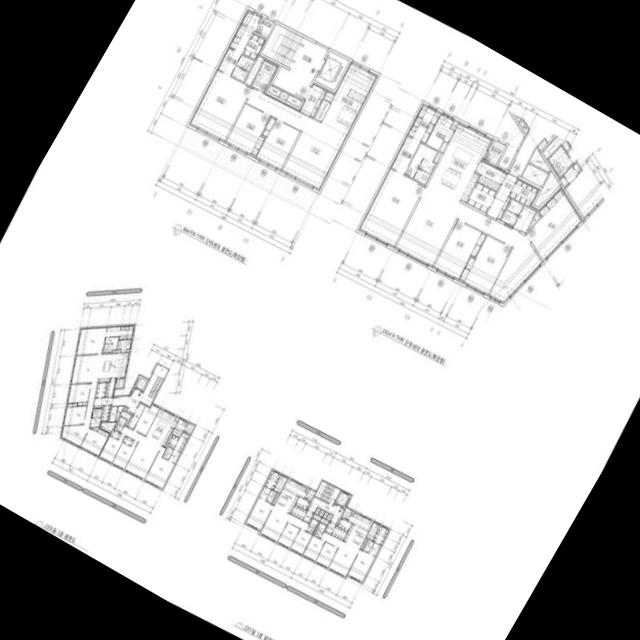background: (0, 0, 640, 640)
space_balconi: (184, 423, 195, 435), (115, 379, 125, 388)
space_bedroom: (358, 169, 425, 248), (189, 70, 251, 142), (526, 187, 582, 262), (433, 221, 487, 281), (458, 236, 512, 296), (256, 117, 300, 171), (226, 104, 270, 158), (145, 446, 175, 489), (347, 550, 375, 583), (245, 498, 273, 531), (80, 428, 110, 457), (76, 327, 107, 355), (134, 404, 160, 435), (99, 434, 125, 463), (112, 441, 138, 470), (277, 523, 300, 549), (290, 529, 312, 555), (316, 542, 338, 568), (303, 536, 325, 562), (63, 403, 87, 426), (67, 384, 91, 406), (110, 430, 121, 440), (123, 437, 133, 446)
space_dressroom: (228, 10, 262, 54), (407, 104, 441, 144), (390, 136, 420, 174), (243, 33, 267, 60), (264, 470, 281, 490), (373, 525, 389, 545), (174, 433, 189, 452), (119, 325, 134, 340), (168, 436, 179, 449)
space_elevator: (316, 52, 349, 90), (335, 491, 351, 509), (133, 376, 148, 392)
space_elevator_hall: (272, 39, 329, 100), (112, 364, 168, 414), (308, 497, 344, 524)
space_front: (487, 173, 517, 220), (299, 83, 327, 118), (509, 179, 540, 207), (127, 403, 145, 430), (331, 526, 347, 541), (291, 505, 307, 520), (94, 398, 112, 408), (96, 383, 107, 398), (101, 406, 111, 422), (303, 511, 314, 523), (325, 522, 336, 534)
space_kitchen: (427, 123, 493, 203), (321, 62, 378, 137), (146, 408, 177, 447), (274, 478, 307, 514), (344, 512, 373, 550), (98, 353, 129, 383), (295, 497, 310, 510), (338, 519, 351, 531)
space_living_room: (395, 186, 542, 304), (246, 89, 347, 191), (61, 355, 102, 447), (121, 426, 161, 480), (259, 507, 309, 542), (321, 532, 359, 578)
space_multipurpose_space: (426, 114, 454, 151)
space_other: (509, 119, 555, 177), (476, 160, 507, 191), (534, 171, 560, 207), (467, 183, 496, 213), (522, 164, 549, 187), (245, 55, 264, 86), (529, 148, 550, 173), (314, 100, 330, 122), (172, 419, 188, 437), (434, 142, 447, 163), (274, 475, 288, 494), (366, 522, 380, 541), (528, 212, 540, 231), (105, 379, 116, 397), (117, 340, 132, 353), (286, 95, 302, 107), (121, 411, 132, 426), (101, 422, 116, 432), (115, 406, 124, 422), (268, 86, 281, 97), (324, 91, 335, 102), (109, 407, 117, 422), (165, 435, 173, 448), (520, 121, 528, 134), (538, 140, 547, 151), (279, 91, 288, 101), (272, 493, 279, 505), (451, 120, 459, 130), (361, 538, 367, 550), (320, 519, 329, 525), (313, 515, 321, 521), (129, 389, 134, 396), (319, 510, 324, 517), (327, 514, 332, 521), (315, 508, 320, 515), (323, 512, 328, 519), (112, 350, 121, 353), (91, 428, 99, 431), (123, 407, 128, 411), (175, 417, 179, 422), (351, 511, 354, 516), (126, 350, 130, 352)
space_outdoor_room: (485, 140, 506, 166), (257, 17, 275, 36), (305, 489, 315, 501), (342, 508, 352, 520)
space_staircase: (262, 24, 306, 69), (315, 481, 340, 505), (148, 377, 163, 399)
space_toilet: (405, 144, 437, 185), (217, 49, 254, 82), (251, 61, 276, 92), (513, 206, 536, 233), (501, 210, 518, 226), (507, 200, 524, 216), (103, 337, 119, 353), (114, 417, 127, 433), (314, 523, 326, 538), (306, 519, 318, 534), (369, 543, 381, 557), (259, 487, 271, 501), (106, 326, 121, 337), (168, 450, 180, 463), (90, 418, 101, 427), (162, 452, 171, 460), (365, 540, 374, 548), (165, 447, 173, 455), (266, 496, 274, 504), (363, 545, 371, 553), (269, 490, 277, 498), (92, 409, 98, 418), (96, 409, 102, 418)
